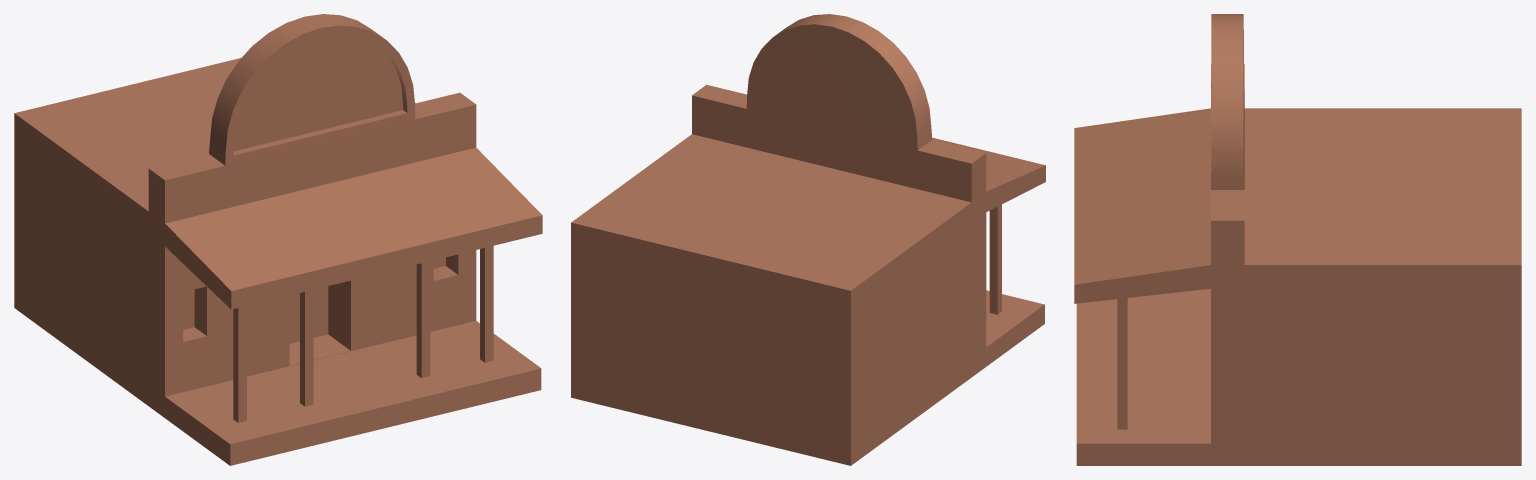
The model's file is saloon.fbx.
The picture shows the model from 3 angles, left to right: view 1: azimuth 30°, elevation 25°; view 2: azimuth 150°, elevation 25°; view 3: azimuth 270°, elevation 25°; orthographic projection. The views are drawn at different scales.
Visible parts, largest first — view 1: Saloon; view 2: Saloon; view 3: Saloon.
Boxes of the visible parts, x1,y1,x2,y2 form: Saloon: (14,14,542,465); Saloon: (571,14,1045,465); Saloon: (1074,14,1521,465).
Size of the model in its own units: 629 by 680 by 759.
